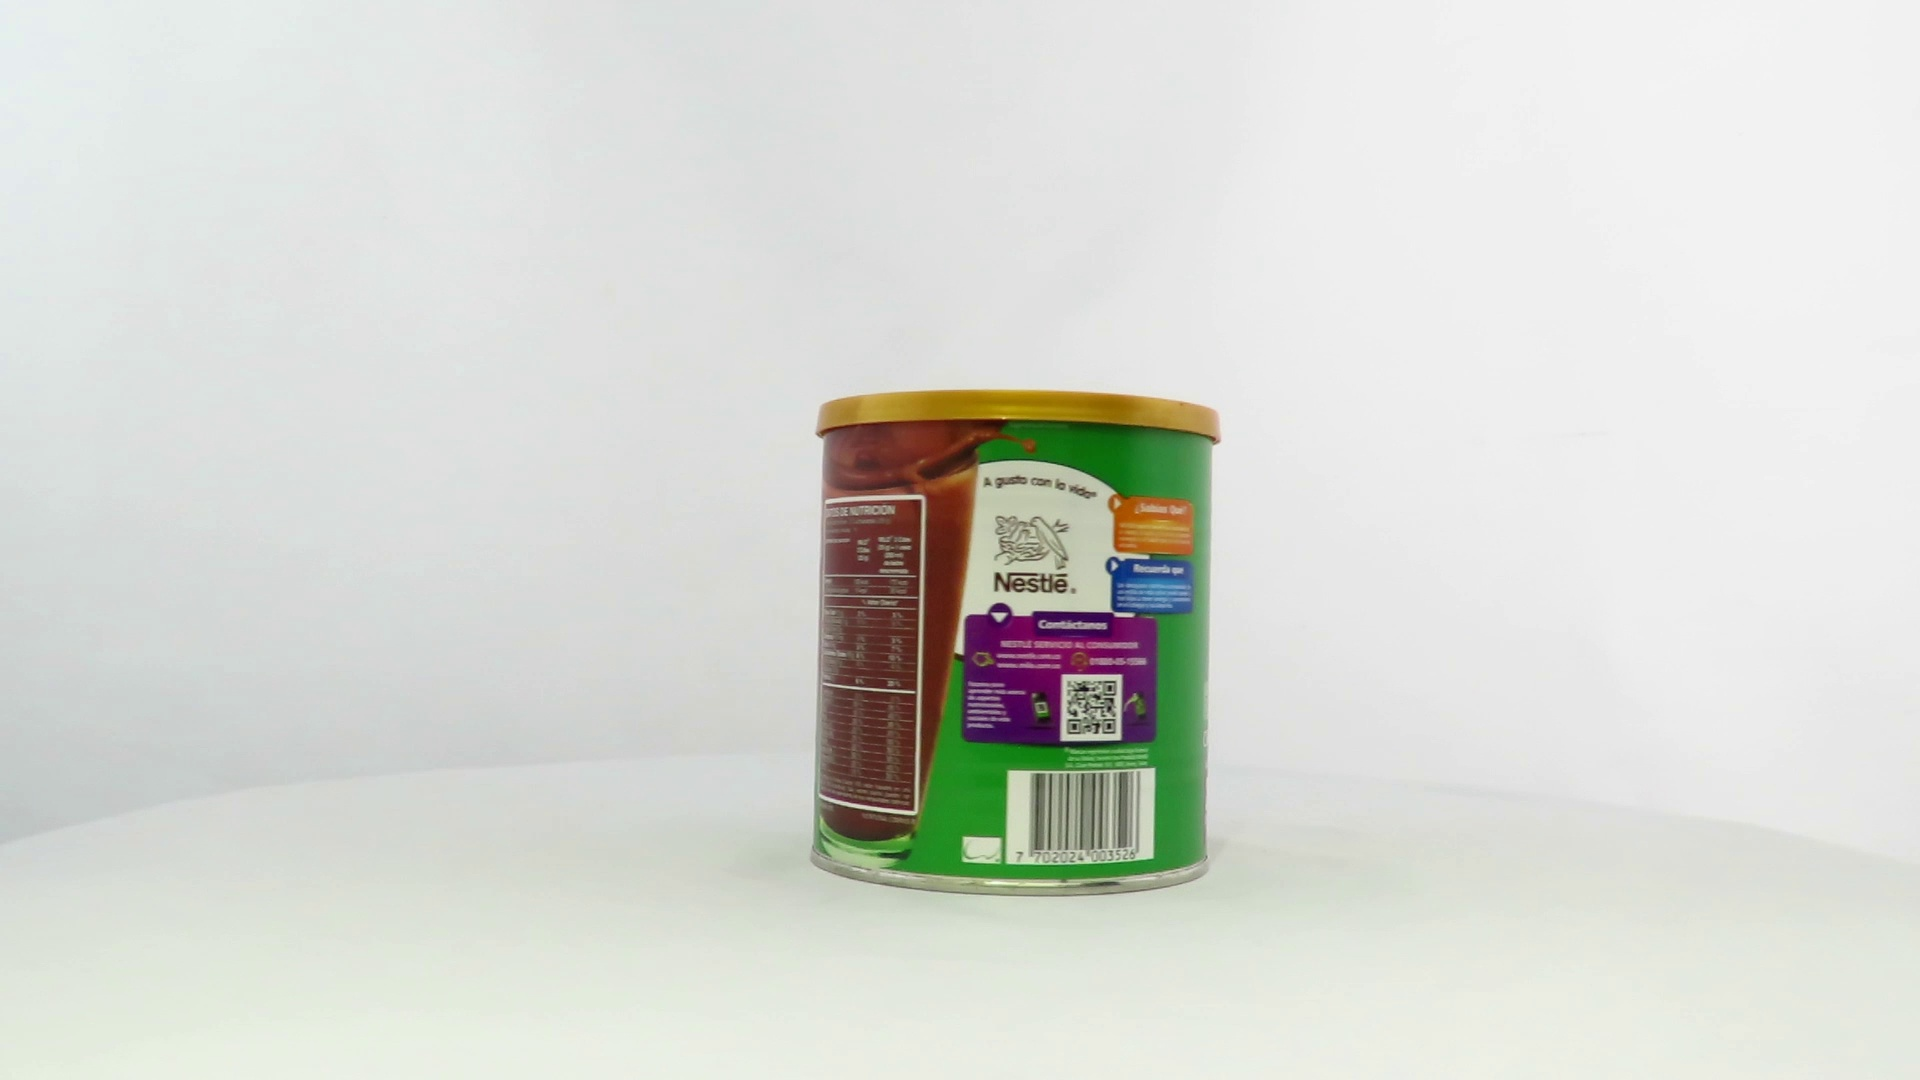COL0170203LAT40000: (804, 384, 1226, 903)
